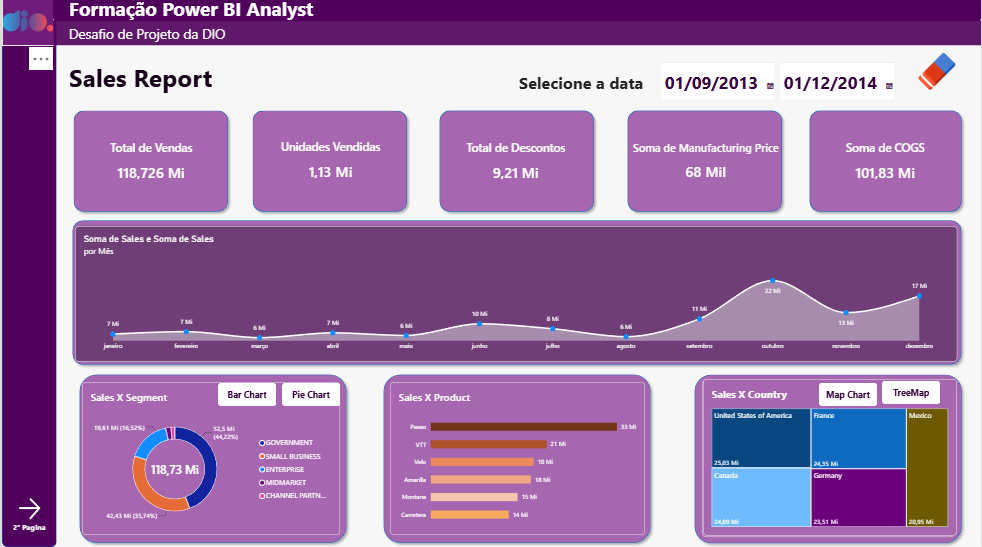

The page's visual inventory and layout, read from the dashboard file:
{"tool":"powerbi","page":{"name":"Página 1","canvas":[1920,1080],"ordinal":0},"visuals":[{"type":"shape","box":[0,0,106.9,1080.6],"z":0},{"type":"cardVisual","fields":{"Data":["Sum(financials.Sales)"]},"box":[122.8,227.5,339,193.4],"z":0,"group":"g1"},{"type":"map","title":"Sales X Country","fields":{"Category":["financials.Country"],"Size":["Sum(financials.Sales)"]},"box":[1372.1,752.9,495.3,307.5],"z":0,"group":"g3"},{"type":"slicer","fields":{"Values":["financials.Date"]},"box":[1282,126,526.7,236.7],"z":1000},{"type":"cardVisual","fields":{"Data":["Sum(financials.Units Sold)"]},"box":[464,225.2,359.4,193.4],"z":1000,"group":"g1"},{"type":"clusteredBarChart","fields":{"Category":["financials.Segment"],"Y":["Sum(financials.Sales)"]},"box":[157,750.7,505,309.4],"z":1000,"group":"g2"},{"type":"textbox","title":"Text_Data","box":[1013,148,300,300],"z":2000},{"type":"cardVisual","fields":{"Data":["Sum(financials.Discounts)"]},"box":[823.5,227.5,368.5,193.4],"z":2000,"group":"g1"},{"type":"shape","box":[0,0,106.9,97.8],"z":3000},{"type":"cardVisual","fields":{"Data":["Sum(financials.Manufacturing Price)"]},"box":[1096.4,227.5,564.2,193.4],"z":3000,"group":"g1"},{"type":"image","title":"Limpar","box":[1792,112,82,72],"z":4000},{"type":"cardVisual","fields":{"Data":["Sum(financials.COGS)"]},"box":[1562.8,227.5,339,193.4],"z":4000,"group":"g1"},{"type":"image","box":[0,0,102.4,97.8],"z":5000},{"type":"shape","box":[131.9,216.1,320.8,216.1],"z":6000},{"type":"shape","box":[482.3,216.1,320.8,216.1],"z":7000},{"type":"shape","box":[848.5,216.1,320.8,216.1],"z":8000},{"type":"shape","box":[1217.1,216.1,320.8,216.1],"z":9000},{"type":"shape","box":[1574.2,216.1,316.2,216.1],"z":10000},{"type":"shape","box":[129.7,432.2,1760.8,300.3],"z":11000},{"type":"shape","box":[100.1,0,1819.9,50],"z":12000},{"type":"shape","box":[100.1,47.8,1819.9,50],"z":13000},{"type":"shape","box":[1348.8,732.6,541.9,348.8],"z":14000},{"type":"textbox","box":[131.9,0,495.9,86.4],"z":15000},{"type":"textbox","box":[116,54.6,527.8,86.4],"z":16000},{"type":"textbox","box":[131.9,125.1,348.1,111.5],"z":17000},{"type":"shape","box":[739.3,732.5,541.4,348.1],"z":18000},{"type":"shape","box":[143.3,732.5,541.4,348.1],"z":19000},{"type":"lineChart","fields":{"Category":["financials.Date.Variação.Hierarquia de datas.Mês"],"Y":["Sum(financials.Sales)"]},"box":[144,450,1730,266],"z":20000},{"type":"clusteredBarChart","title":"Sales X Product","fields":{"Category":["financials.Product"],"Y":["Sum(financials.Sales)"]},"box":[760,757.5,500,300],"z":21000},{"type":"actionButton","box":[1784,96,100,102],"z":22000},{"type":"group","id":"g1","title":"Cartoes","box":[122.8,225.2,1779,195.6],"z":23000},{"type":"group","id":"g2","title":"SalesXSegmentos","box":[157,750.7,506,309.4],"z":24000},{"type":"group","id":"g3","title":"Sales_Countries","box":[1372.1,751.3,499.8,309.1],"z":25000},{"type":"actionButton","box":[4.7,951.7,99.7,109.2],"z":26000},{"type":"actionButton","box":[423.3,758.1,114,45],"z":27000},{"type":"actionButton","box":[548.8,758.1,114,45],"z":28000},{"type":"actionButton","title":"TreeMap","box":[1725.6,755.8,114,45],"z":29000},{"type":"actionButton","title":"MapChart","box":[1602.3,758.1,114,45],"z":30000}]}

Visuals, with their boxes in screenshot pixels (x1, y1, x2, y2):
shape: region(0, 0, 53, 546)
cardVisual - Sum(financials.Sales): region(61, 110, 237, 210)
"Sales X Country" map: region(708, 382, 965, 542)
slicer - financials.Date: region(662, 58, 934, 180)
cardVisual - Sum(financials.Units Sold): region(238, 109, 424, 209)
clusteredBarChart - financials.Segment x Sum(financials.Sales): region(79, 381, 340, 542)
"Text_Data" textbox: region(522, 69, 678, 224)
cardVisual - Sum(financials.Discounts): region(424, 110, 615, 210)
shape: region(0, 0, 53, 43)
cardVisual - Sum(financials.Manufacturing Price): region(565, 110, 858, 210)
"Limpar" image: region(926, 50, 968, 88)
cardVisual - Sum(financials.COGS): region(807, 110, 981, 210)
image: region(0, 0, 50, 43)
shape: region(66, 104, 232, 216)
shape: region(247, 104, 414, 216)
shape: region(437, 104, 603, 216)
shape: region(628, 104, 794, 216)
shape: region(813, 104, 977, 216)
shape: region(65, 216, 977, 372)
shape: region(49, 0, 981, 18)
shape: region(49, 17, 981, 43)
shape: region(696, 372, 977, 546)
textbox: region(66, 0, 323, 37)
textbox: region(58, 21, 331, 65)
textbox: region(66, 57, 246, 115)
shape: region(380, 372, 661, 546)
shape: region(72, 372, 352, 546)
lineChart - financials.Date.Variação.Hierarquia de datas.Mês x Sum(financials.Sales): region(72, 225, 968, 363)
"Sales X Product" clusteredBarChart: region(391, 385, 650, 540)
actionButton: region(922, 42, 974, 95)
"Cartoes" group: region(61, 109, 981, 210)
"SalesXSegmentos" group: region(79, 381, 341, 542)
"Sales_Countries" group: region(708, 382, 967, 542)
actionButton: region(0, 485, 52, 542)
actionButton: region(217, 385, 276, 408)
actionButton: region(282, 385, 341, 408)
"TreeMap" actionButton: region(891, 384, 950, 407)
"MapChart" actionButton: region(828, 385, 887, 408)
